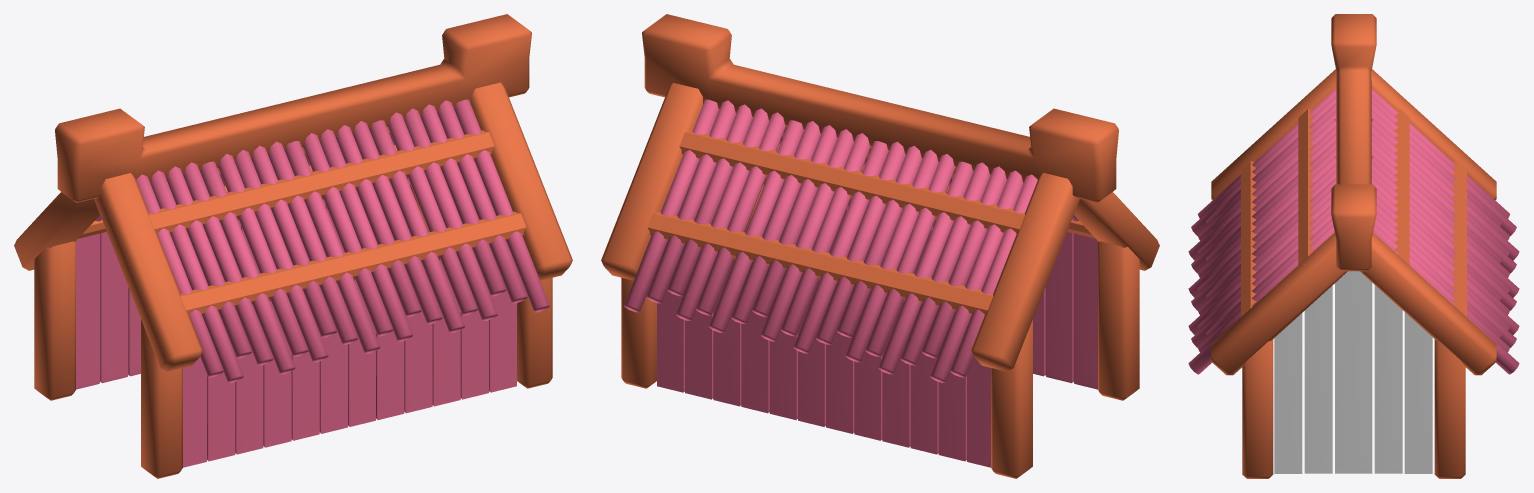
The model's file is Barn.fbx.
3 renders of one model, left to right at view 1: azimuth 30°, elevation 25°; view 2: azimuth 150°, elevation 25°; view 3: azimuth 270°, elevation 25°, orthographic. The views are drawn at different scales.
Visible parts, largest first — view 1: Cylinder, Cube.003, Cube.001, Cube.002, Cube.010; view 2: Cylinder, Cube.003, Cube.001, Cube.002, Cube.010; view 3: Cylinder, Cube.001, Cube.002, Cube.010, Cube.006, Cube.007, Cube.005, Cube.008, Cube.004.
Part boxes in pixels (x1,y1,x2,y2): Cylinder: (95,99,549,382); Cube.003: (76,178,516,467); Cube.001: (14,82,572,478); Cube.002: (55,14,531,202); Cube.010: (78,127,526,314); Cylinder: (624,99,1078,382); Cube.003: (657,178,1097,467); Cube.001: (601,83,1159,478); Cube.002: (642,14,1118,202); Cube.010: (647,127,1095,314); Cylinder: (1188,88,1519,374); Cube.001: (1211,69,1496,478); Cube.002: (1331,14,1376,271); Cube.010: (1241,109,1466,316); Cube.006: (1335,271,1372,473); Cube.007: (1374,285,1402,473); Cube.005: (1304,285,1332,473); Cube.008: (1404,312,1432,473); Cube.004: (1274,313,1302,473).
Bounding box in the file's own units: 495 × 322 × 344.
